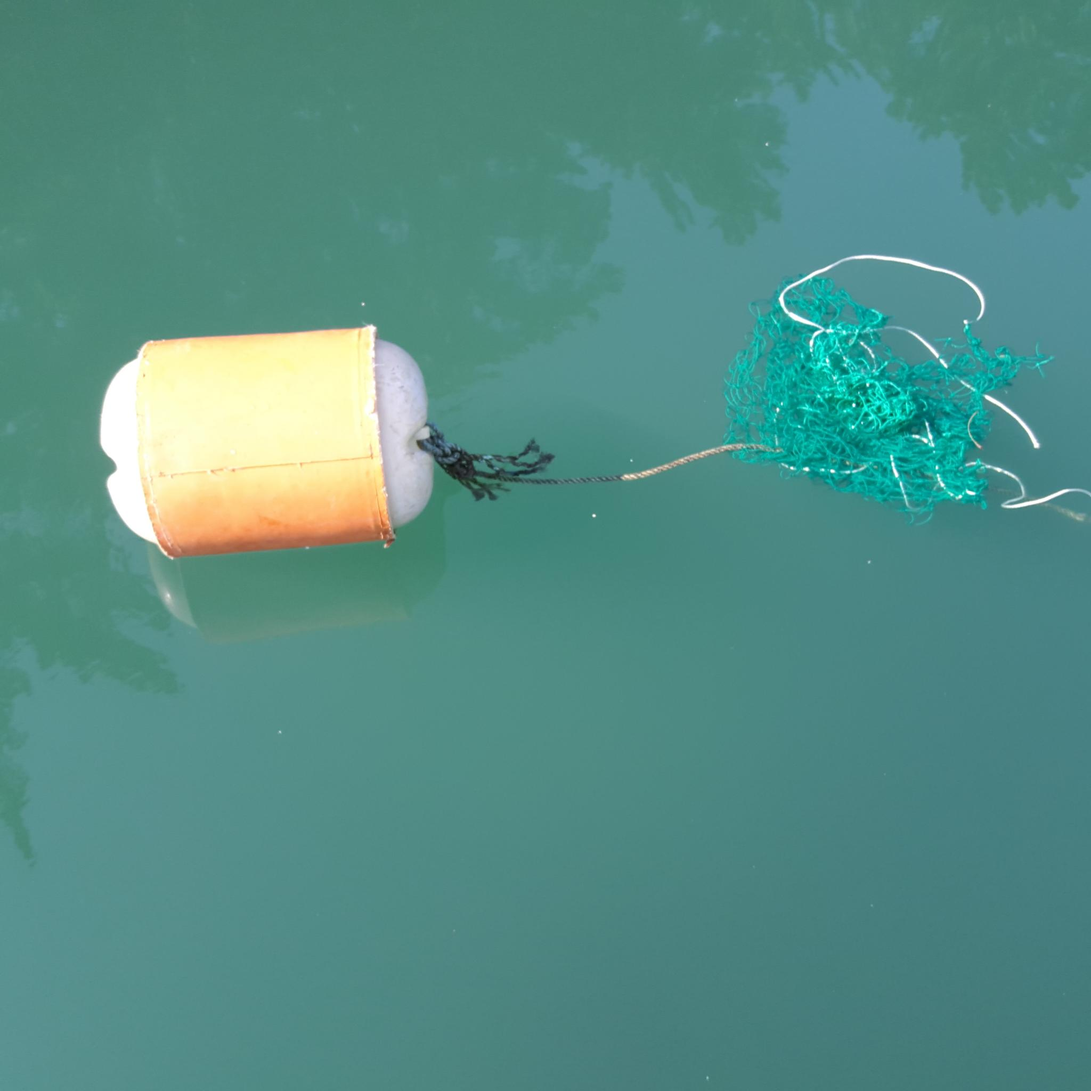sampah_terapung: (774, 254, 1091, 526), (722, 275, 1056, 530), (100, 325, 435, 557), (423, 422, 761, 502)
